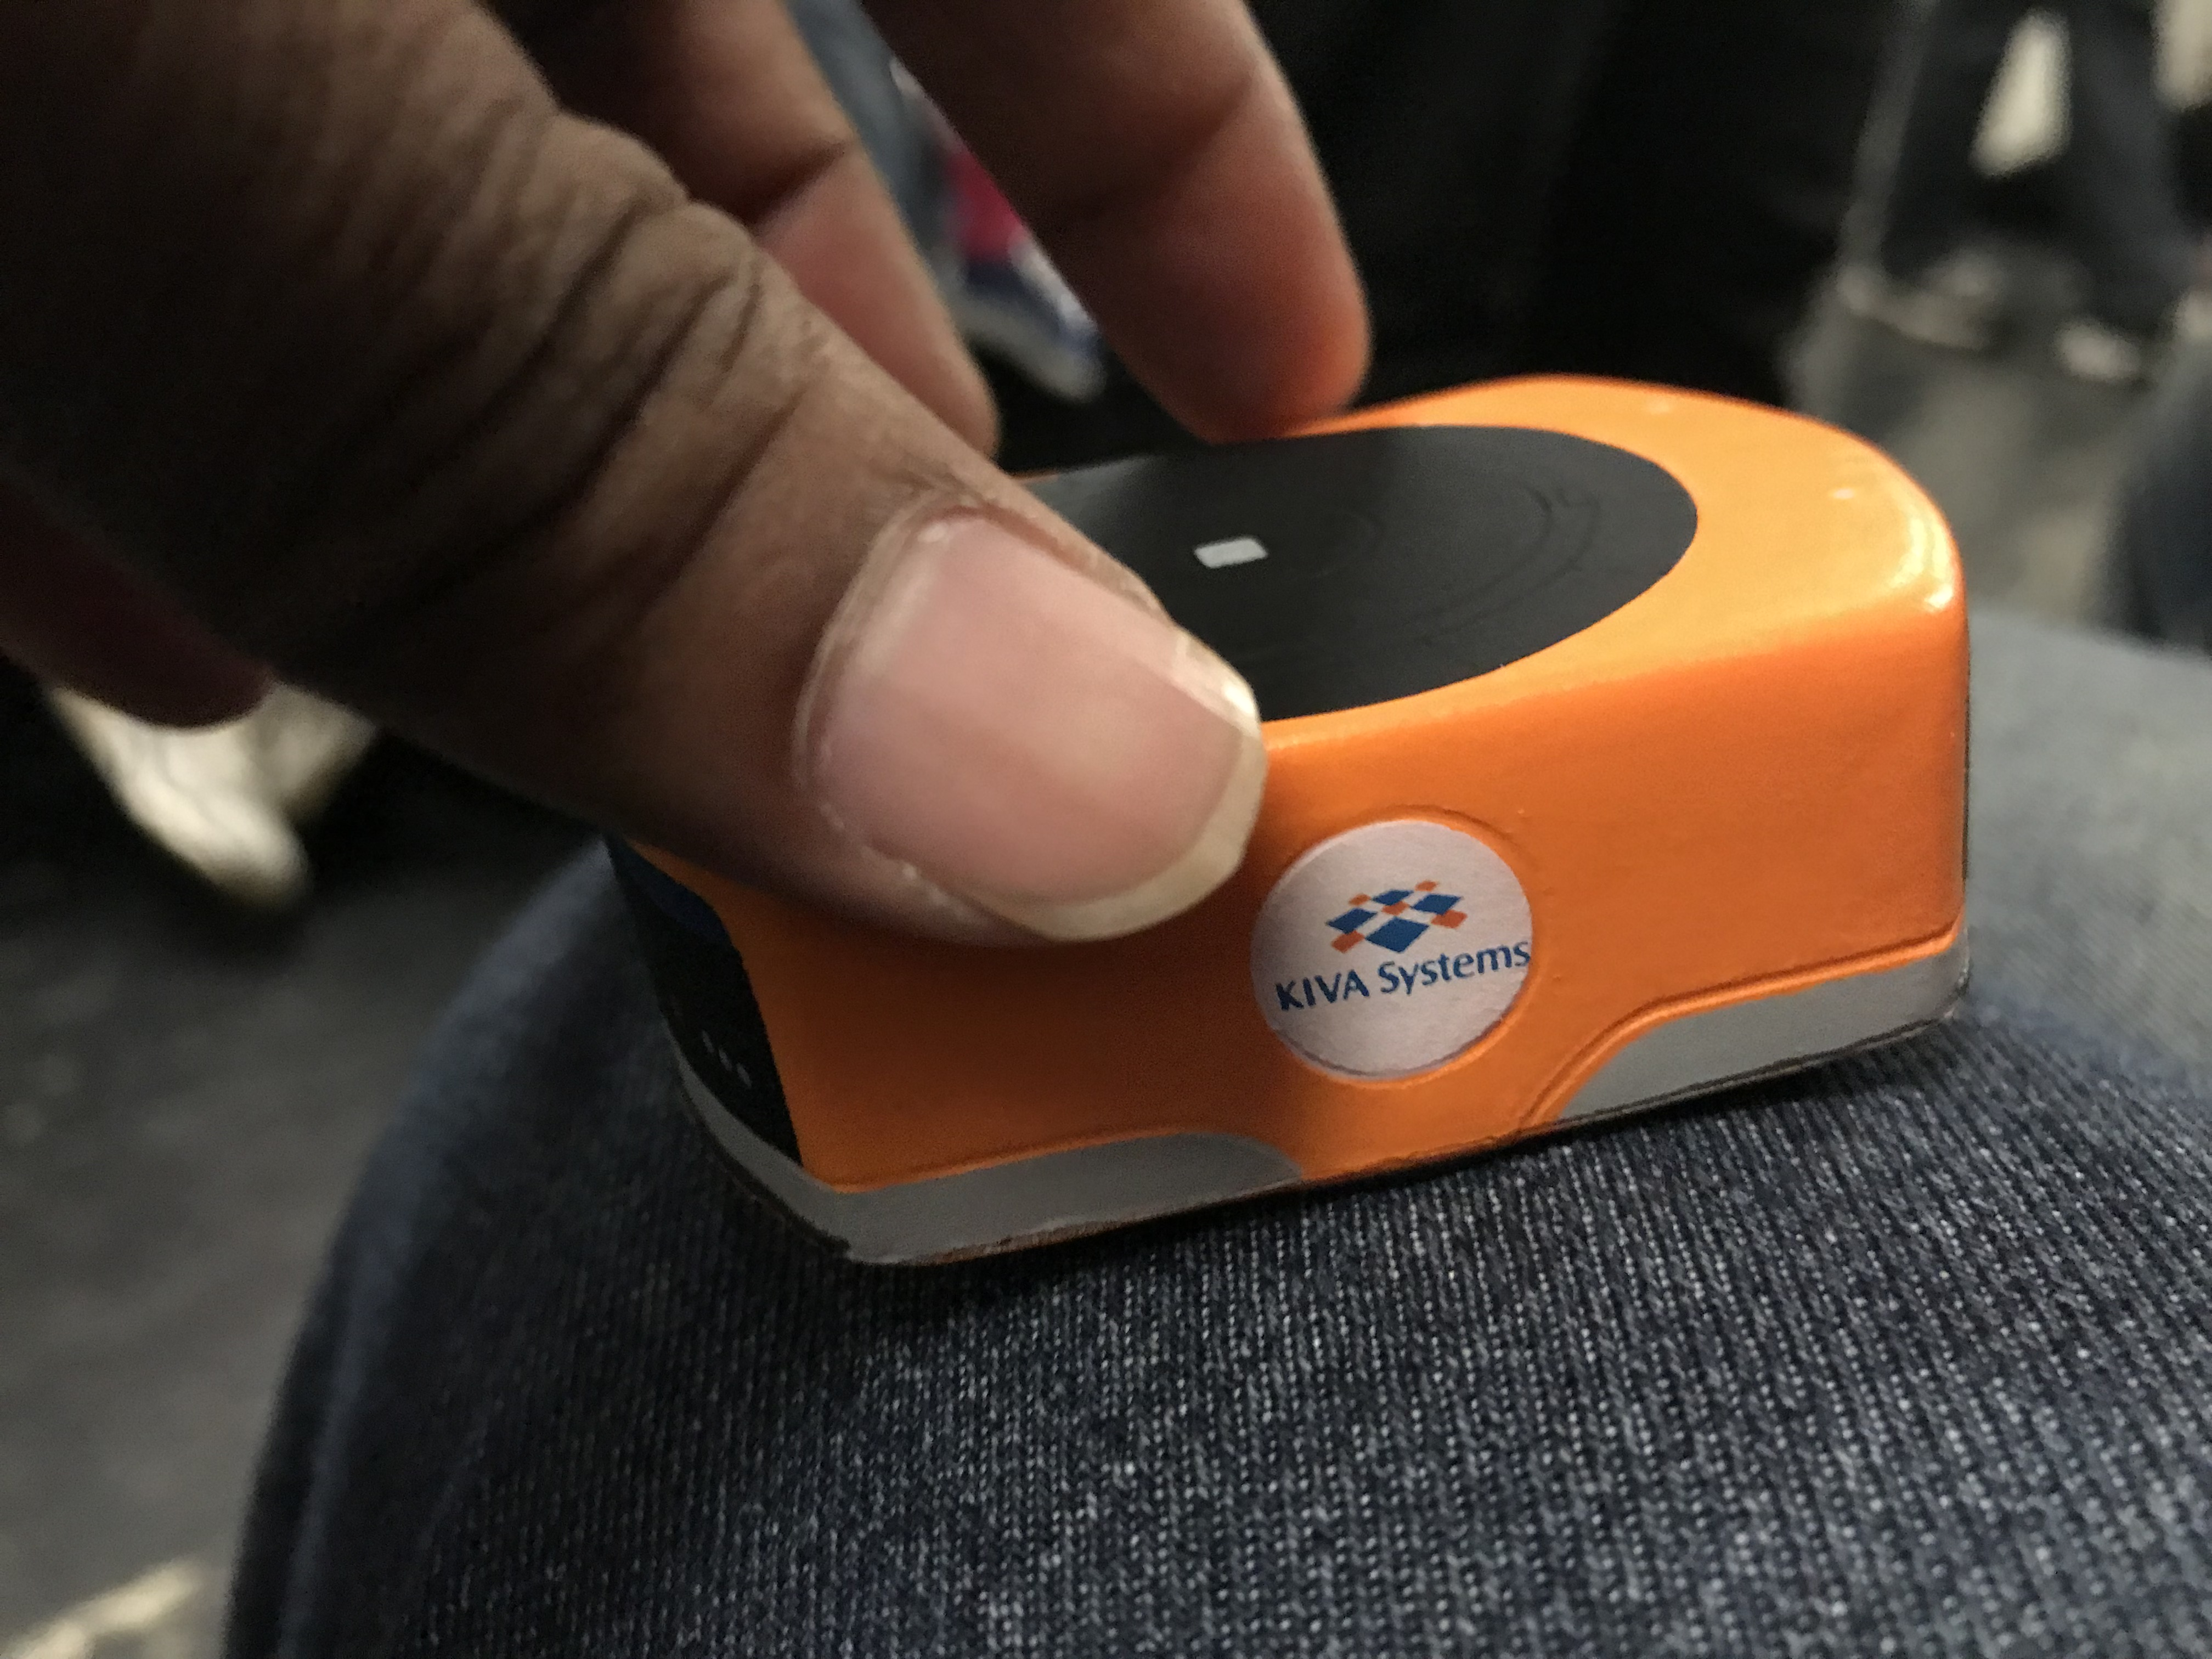amazon_bot: (643, 369, 2022, 1281)
